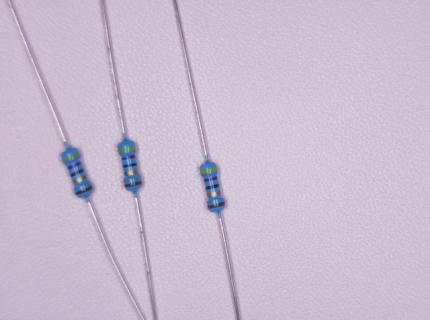Black band: (70, 168, 84, 177), (205, 184, 219, 190), (123, 162, 137, 167)
Brown band: (75, 185, 92, 196), (208, 201, 224, 209), (125, 181, 141, 187)
Gold band: (73, 175, 86, 185), (124, 169, 138, 176), (207, 191, 221, 197)
Violet band: (67, 161, 82, 170), (204, 176, 217, 182), (122, 155, 135, 160)
Yellow band: (62, 152, 80, 163), (200, 167, 217, 174), (118, 146, 135, 152)
